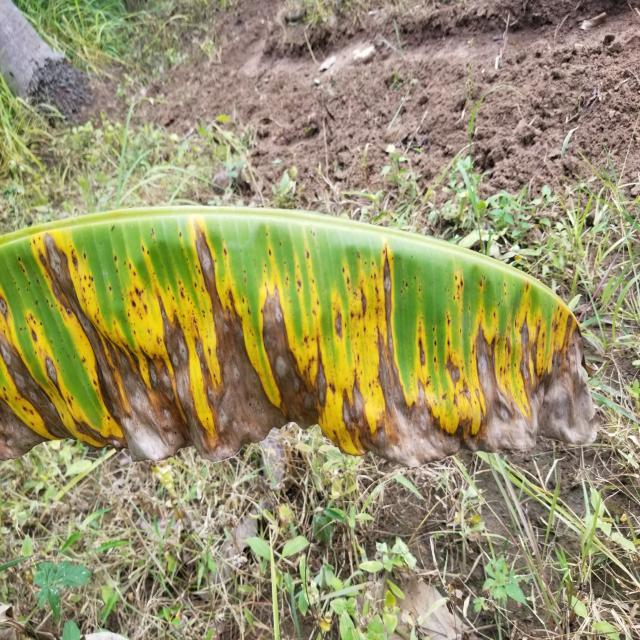Early_rust: (0, 191, 593, 520)
